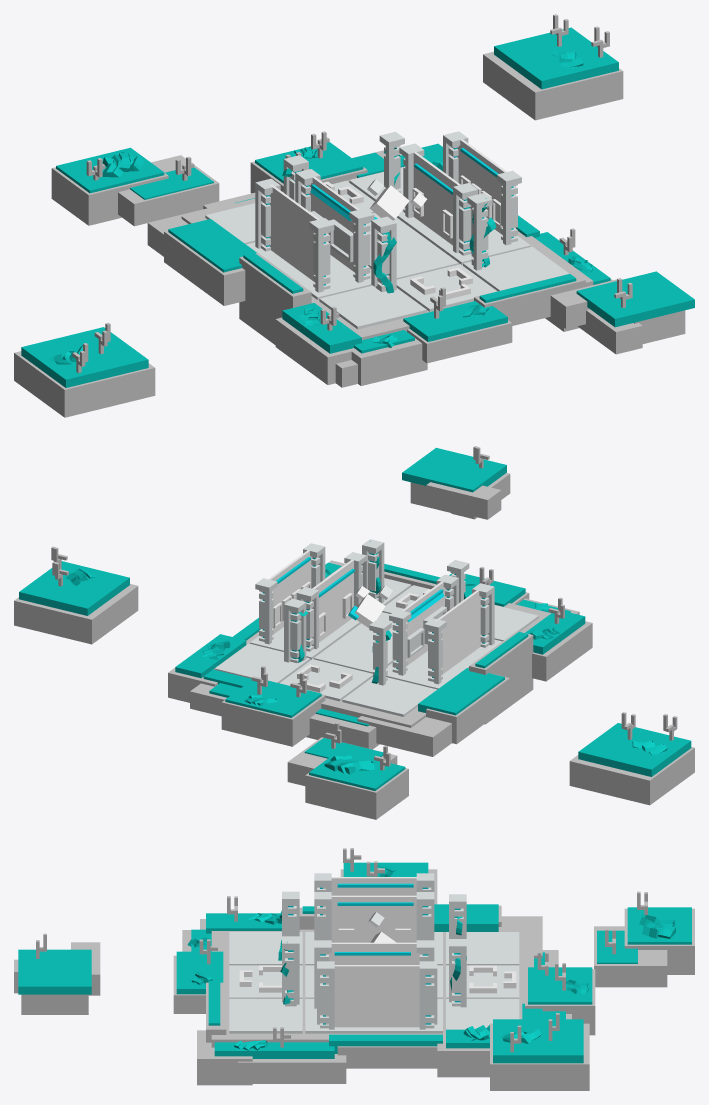
3 renders of one model, top to bottom at view 1: azimuth 30°, elevation 25°; view 2: azimuth 150°, elevation 25°; view 3: azimuth 270°, elevation 25°, orthographic. The views are drawn at different scales.
Parts seen in each view (by area): view 1: Node_8, Node_4, Node_5, Node_7, Node_10; view 2: Node_8, Node_4, Node_5, Node_7, Node_10; view 3: Node_8, Node_4, Node_5, Node_7, Node_10.
Part boxes in pixels (<box>): Node_8: <box>14,14,685,417</box>; Node_4: <box>21,27,694,387</box>; Node_5: <box>205,131,569,329</box>; Node_7: <box>269,139,506,299</box>; Node_10: <box>264,147,513,285</box>; Node_8: <box>14,446,694,819</box>; Node_4: <box>19,447,691,790</box>; Node_5: <box>214,539,538,716</box>; Node_7: <box>266,550,481,692</box>; Node_10: <box>262,553,486,677</box>; Node_8: <box>14,848,694,1090</box>; Node_4: <box>18,862,691,1063</box>; Node_5: <box>229,873,519,1033</box>; Node_7: <box>239,877,516,1027</box>; Node_10: <box>288,883,460,1024</box>.
Bounding box in the file's own units: 2.39 × 0.615 × 2.32.
